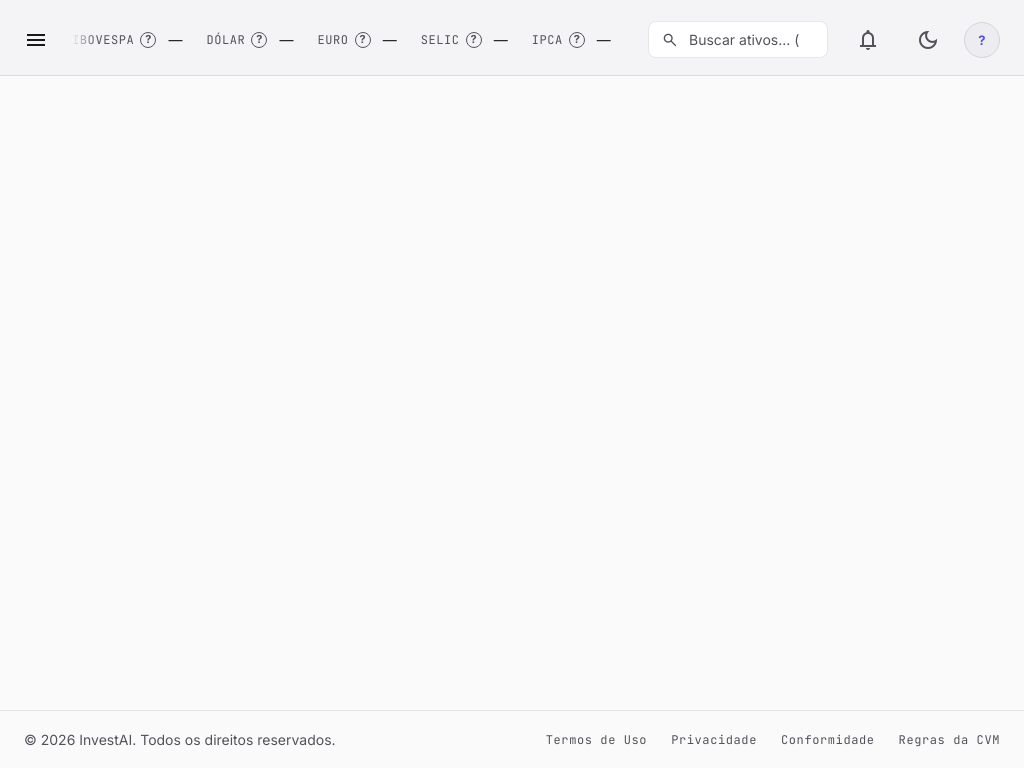
AppShellComponent › deve abrir o menu de usuário ao clicar no avatar
Click the button with class "header__avatar" at (982, 40), box [964,22,1000,58]
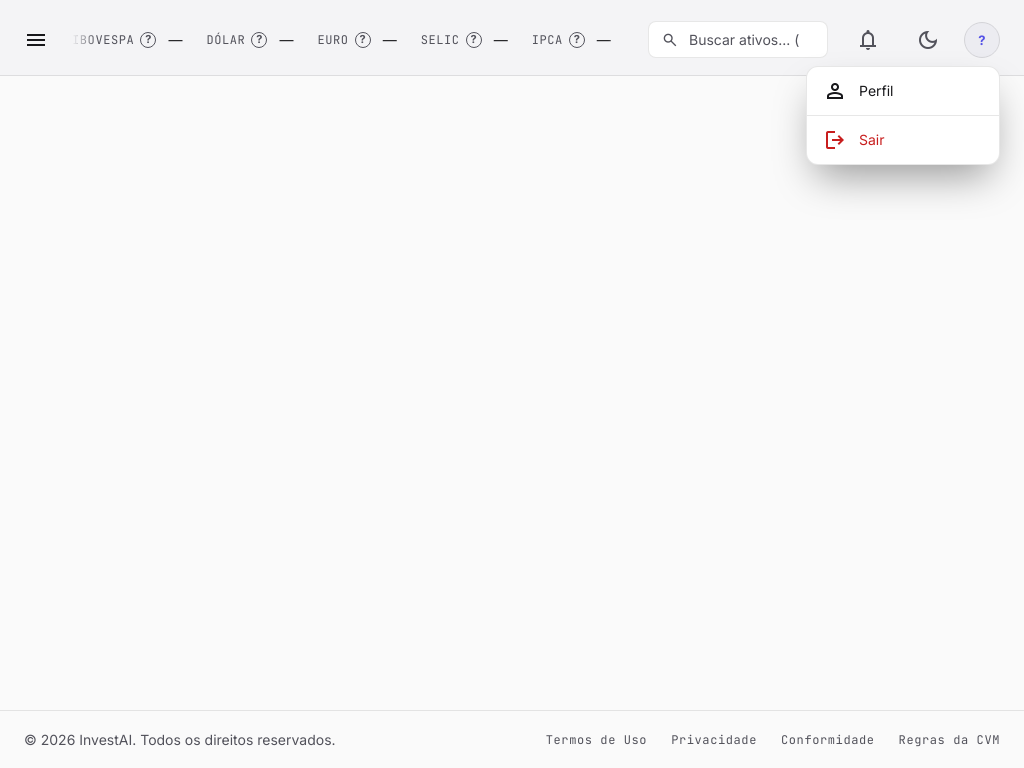
Check: the element with class "header__dropdown" is shown, box [806,66,1000,164]
